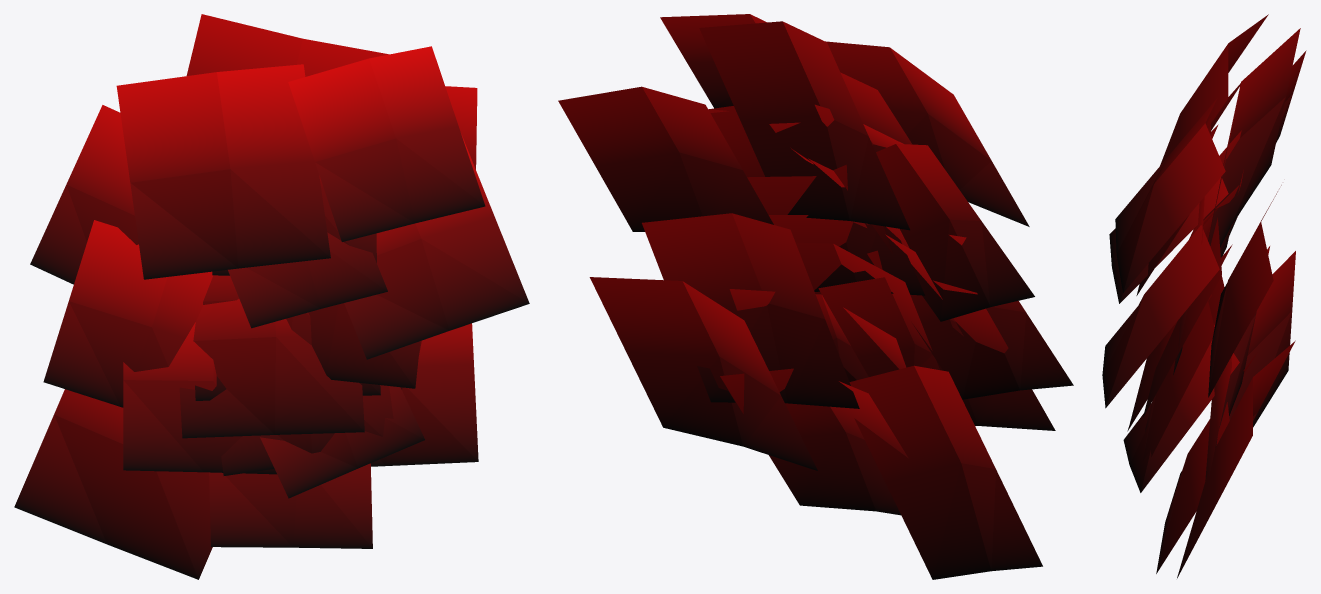
File: Ivy06.fbx
The picture shows the model from 3 angles, left to right: view 1: azimuth 30°, elevation 25°; view 2: azimuth 150°, elevation 25°; view 3: azimuth 270°, elevation 25°; orthographic projection. The views are drawn at different scales.
Visible parts, largest first — view 1: transform31; view 2: transform31; view 3: transform31.
Boxes of the visible parts, bbox=[...] form: transform31: bbox=[14, 14, 529, 579]; transform31: bbox=[558, 14, 1073, 579]; transform31: bbox=[1102, 14, 1306, 578].
Bounding box in the file's own units: 155 × 168 × 60.77.
